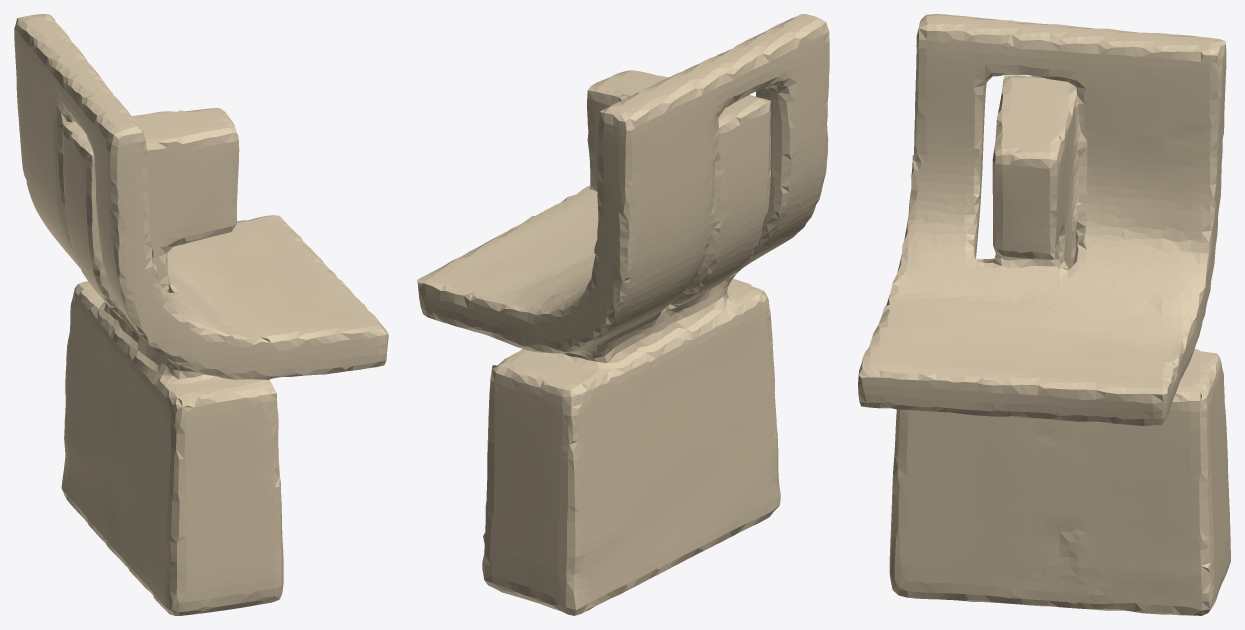
File: skulptur-01.glb
The picture shows the model from 3 angles, left to right: view 1: azimuth 30°, elevation 25°; view 2: azimuth 150°, elevation 25°; view 3: azimuth 270°, elevation 25°; orthographic projection. The views are drawn at different scales.
Visible parts, largest first — view 1: skulptur-01; view 2: skulptur-01; view 3: skulptur-01.
Part boxes in pixels (<box>): skulptur-01: <box>14,14,388,615</box>; skulptur-01: <box>417,14,829,615</box>; skulptur-01: <box>858,14,1230,615</box>.
Size of the model in its own units: 0.5954 by 0.9994 by 0.6595.
